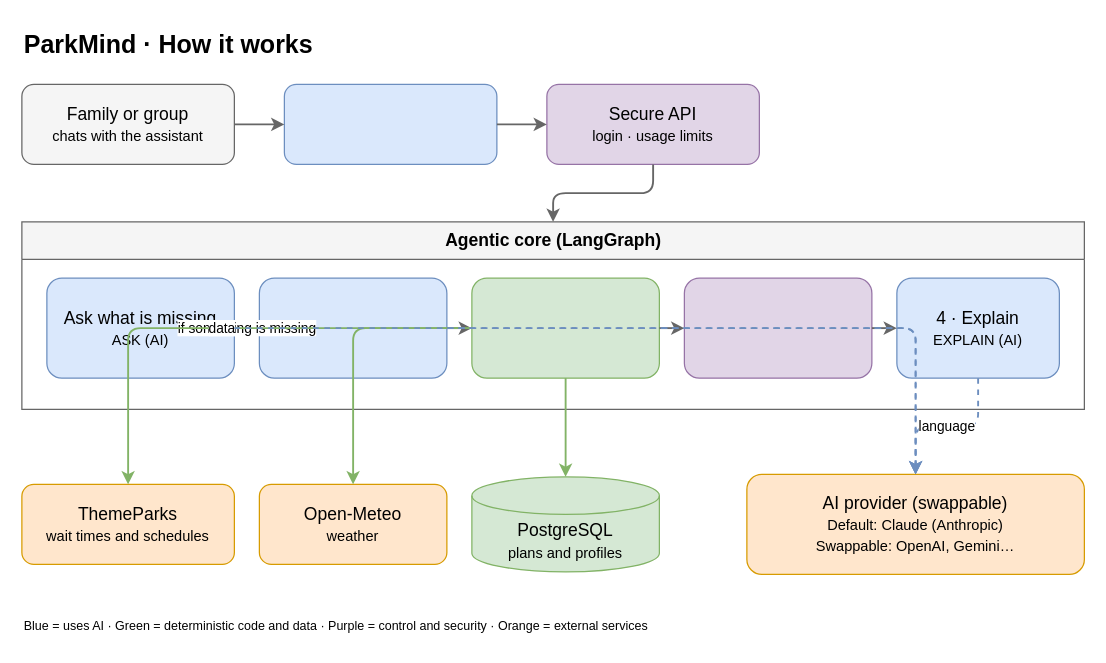
The diagram is 1106 pixels wide and 663 high, and some of its shapes have lost their labels. Each missing label, with the centre of its shape:
"1 · Understand ELICIT (AI)" belongs at (x=352, y=327).
"2 · Build the plan code engine" belongs at (x=565, y=327).
"3 · Validate 11 hard rules" belongs at (x=777, y=327).
"Web app chat in the browser" belongs at (x=390, y=123).
